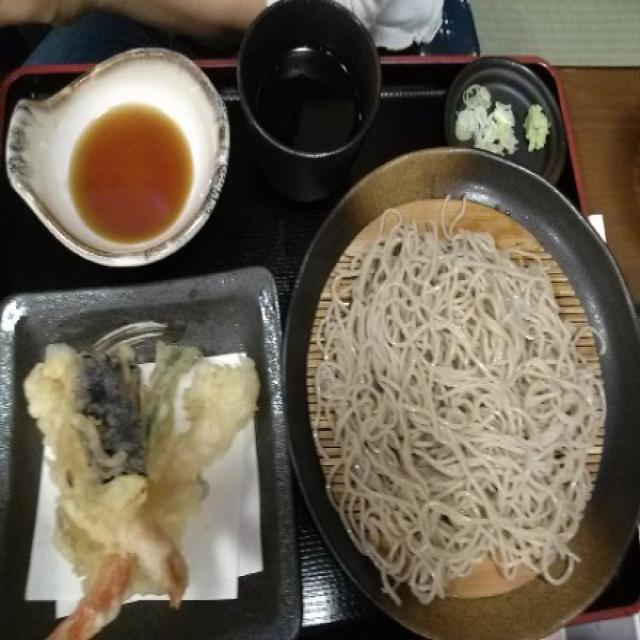面条主食: (286, 152, 636, 636)
